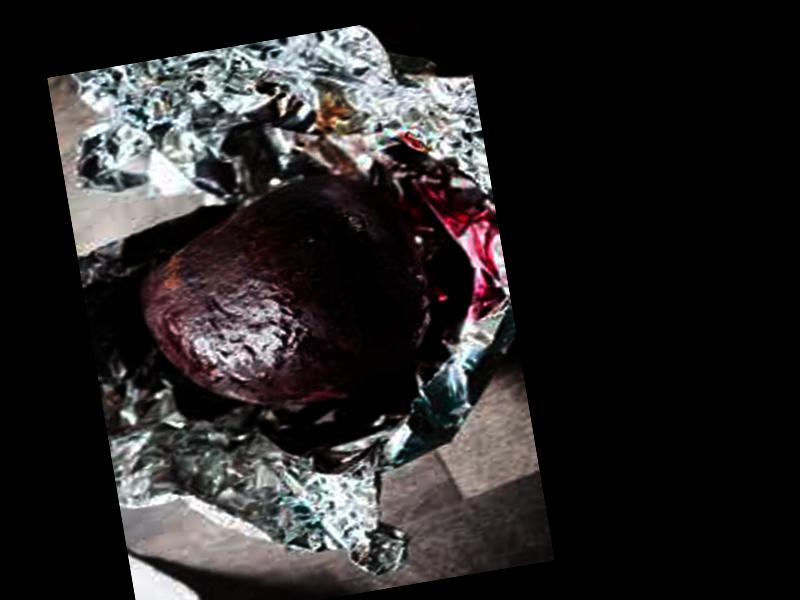Beet: (122, 162, 433, 433)
